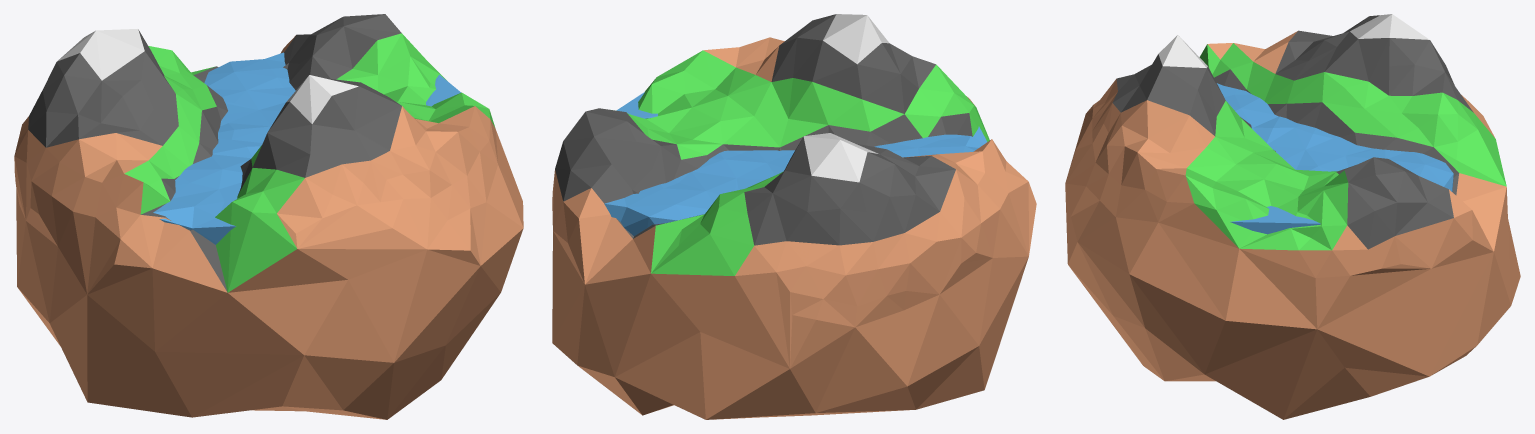
File: planet.glb
3 views of the same model, side by side, from view 1: azimuth 30°, elevation 25°; view 2: azimuth 150°, elevation 25°; view 3: azimuth 270°, elevation 25° (orthographic). The views are drawn at different scales.
Parts seen in each view (by area): view 1: earth, water; view 2: earth, water; view 3: earth, water.
Boxes of the visible parts, <box> form: earth: <box>14,14,523,419</box>; water: <box>153,52,460,244</box>; earth: <box>552,14,1036,419</box>; water: <box>604,92,986,236</box>; earth: <box>1065,14,1520,419</box>; water: <box>1217,83,1453,234</box>.
Bounding box in the file's own units: 1.99 × 1.58 × 2.02.
